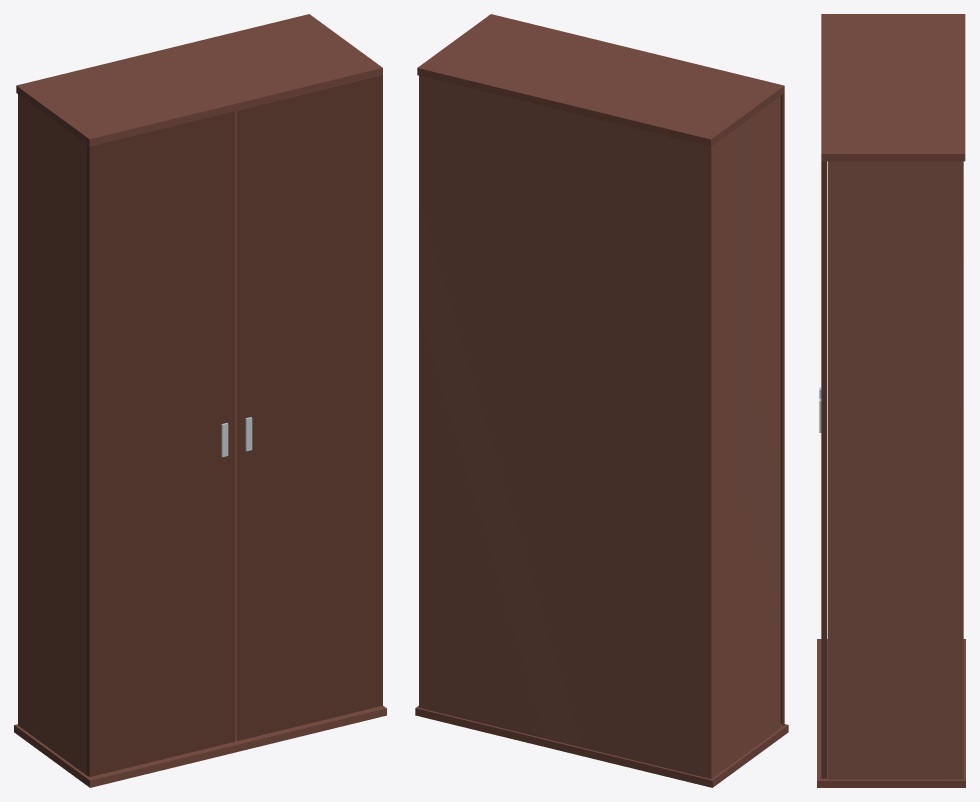
Rendered from closet_008.glb.
3 renders of one model, left to right at view 1: azimuth 30°, elevation 25°; view 2: azimuth 150°, elevation 25°; view 3: azimuth 270°, elevation 25°, orthographic. The views are drawn at different scales.
Parts seen in each view (by area): view 1: closet_008; view 2: closet_008; view 3: closet_008.
Boxes of the visible parts, x1,y1,x2,y2 form: closet_008: (14,14,386,787); closet_008: (415,14,788,787); closet_008: (817,14,965,787).
Size of the model in its own units: 0.85 by 1.77 by 0.3769.
Materials: 1 (1 with a texture image).
